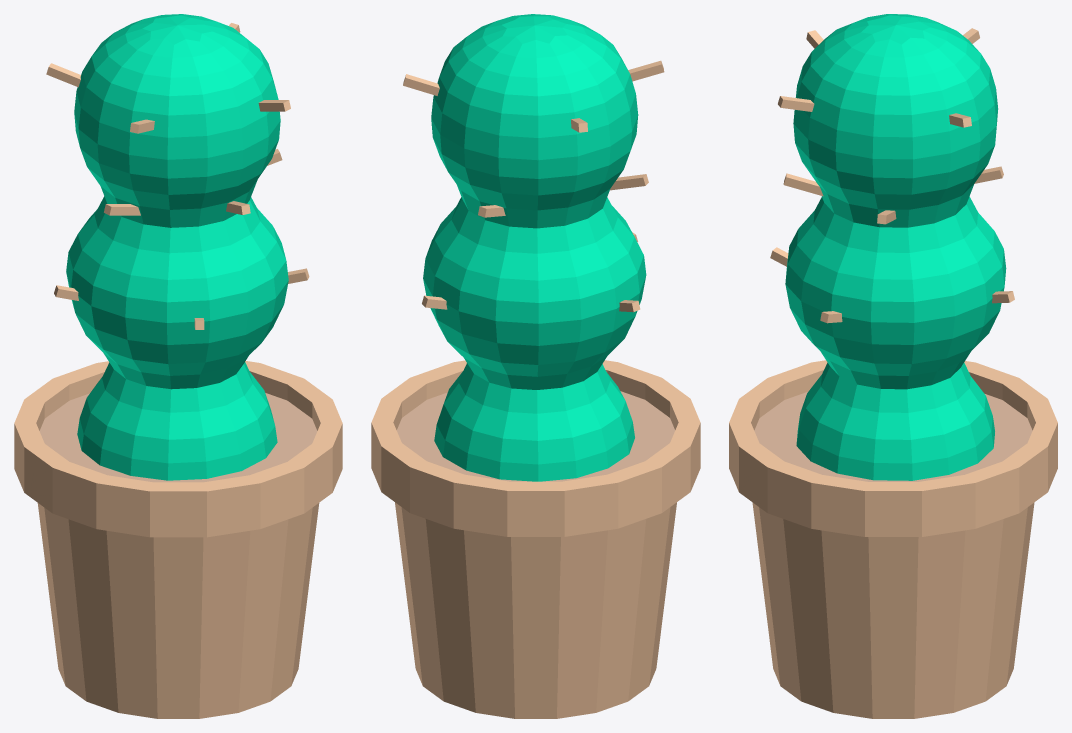
File: Plant Pot 1.fbx
The picture shows the model from 3 angles, left to right: view 1: azimuth 30°, elevation 25°; view 2: azimuth 150°, elevation 25°; view 3: azimuth 270°, elevation 25°; orthographic projection.
Parts seen in each view (by area): view 1: Plant 2, Plant Pot 1; view 2: Plant 2, Plant Pot 1; view 3: Plant 2, Plant Pot 1.
Part boxes in pixels (x1=…): Plant 2: x1=46, y1=14, x2=309, y2=480; Plant Pot 1: x1=14, y1=361, x2=342, y2=718; Plant 2: x1=403, y1=14, x2=664, y2=481; Plant Pot 1: x1=371, y1=360, x2=700, y2=718; Plant 2: x1=770, y1=14, x2=1014, y2=480; Plant Pot 1: x1=729, y1=360, x2=1057, y2=718.
Size of the model in its own units: 0.0734 by 0.161 by 0.0745.
